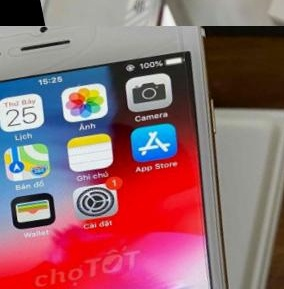screen_defect: (21, 26, 152, 86)
